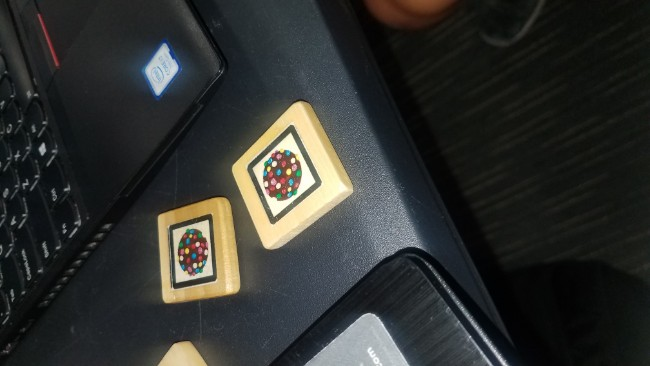cookie: (233, 106, 353, 249), (155, 198, 236, 308)
